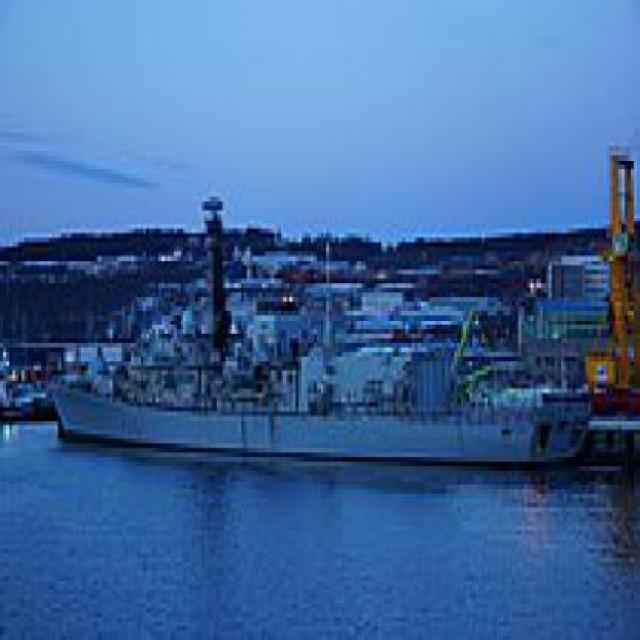warship2: (47, 166, 618, 490)
